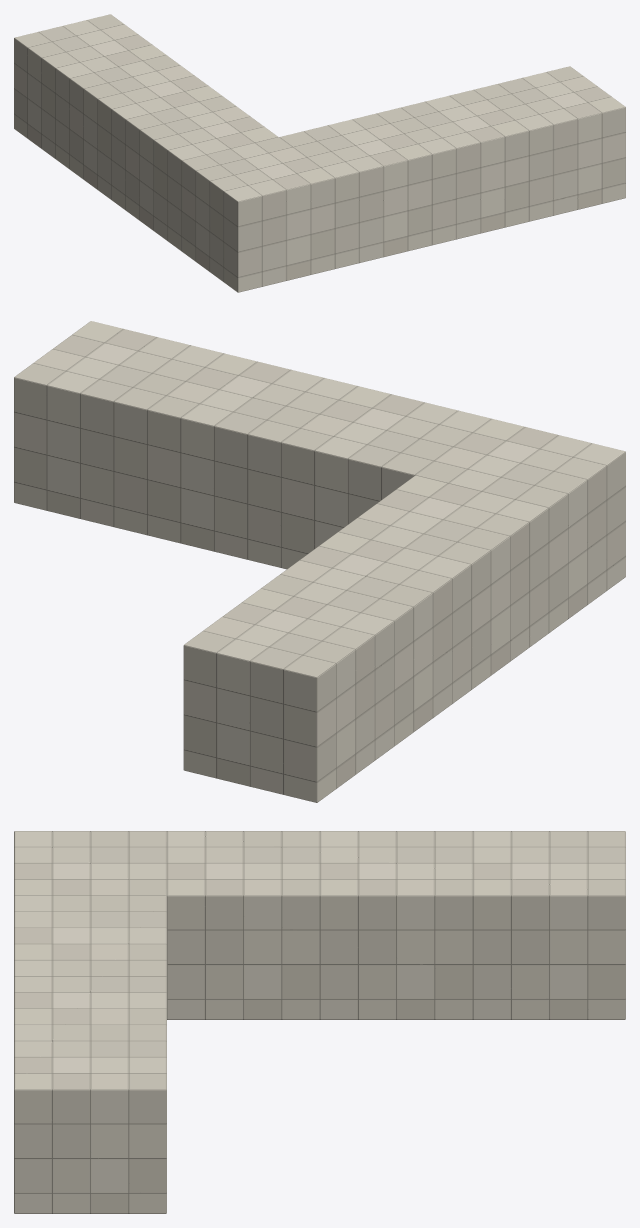
File: MOD_42_Platform_Corner.glb
The picture shows the model from 3 angles, top to bottom: view 1: azimuth 30°, elevation 25°; view 2: azimuth 150°, elevation 25°; view 3: azimuth 270°, elevation 25°; orthographic projection. The views are drawn at different scales.
Visible parts, largest first — view 1: MOD_42_Platform_Corner_Export; view 2: MOD_42_Platform_Corner_Export; view 3: MOD_42_Platform_Corner_Export.
Boxes of the visible parts, <box> form: MOD_42_Platform_Corner_Export: <box>14,14,625,292</box>; MOD_42_Platform_Corner_Export: <box>14,321,625,802</box>; MOD_42_Platform_Corner_Export: <box>14,831,625,1213</box>.
Size of the model in its own units: 4 by 0.9 by 4.
Materials: 1 (1 with a texture image).
